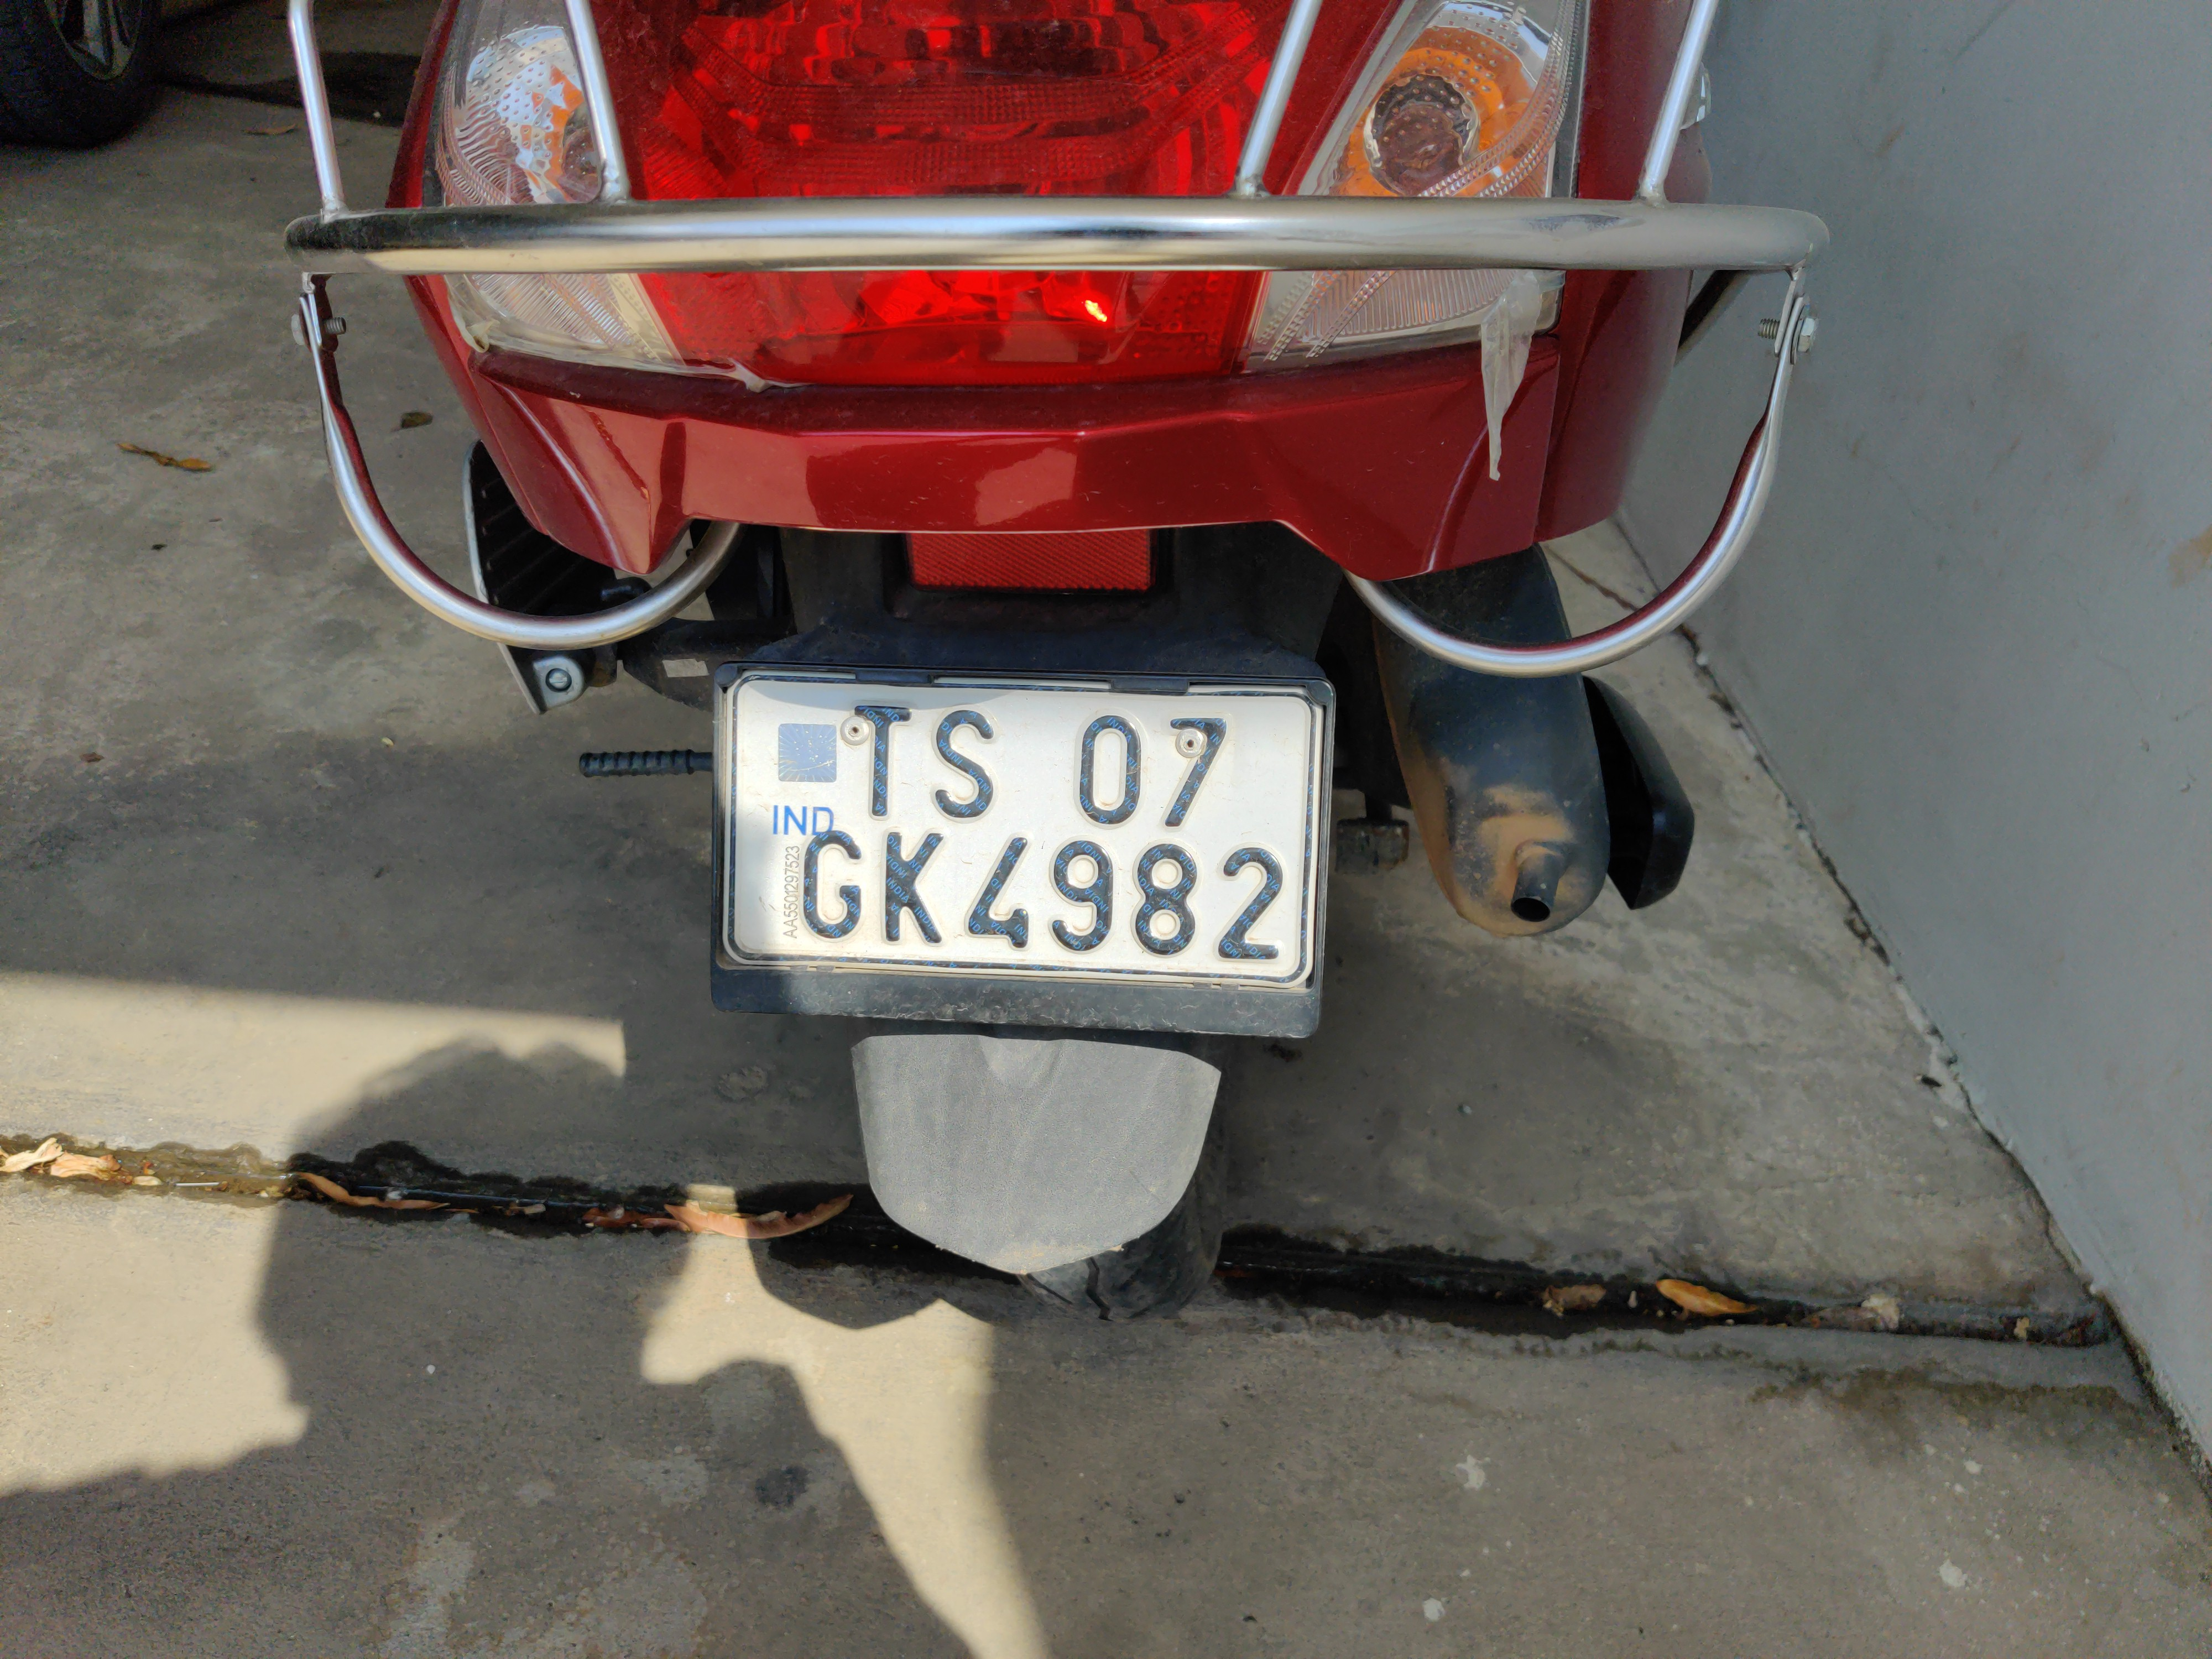plate: (688, 633, 1369, 1070)
